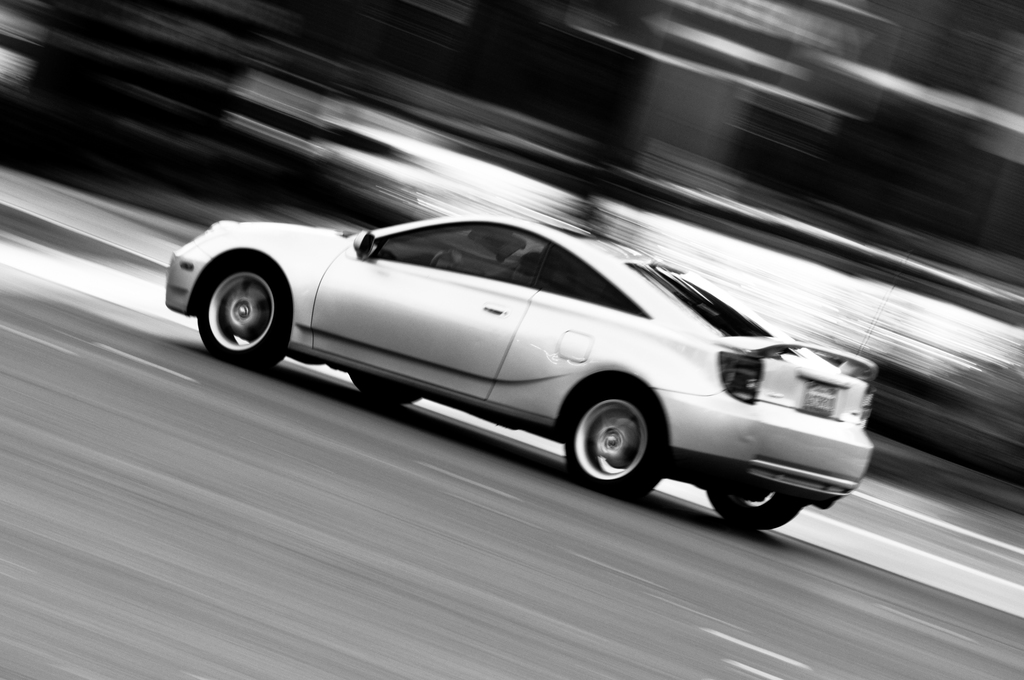Car: (201, 203, 842, 518)
